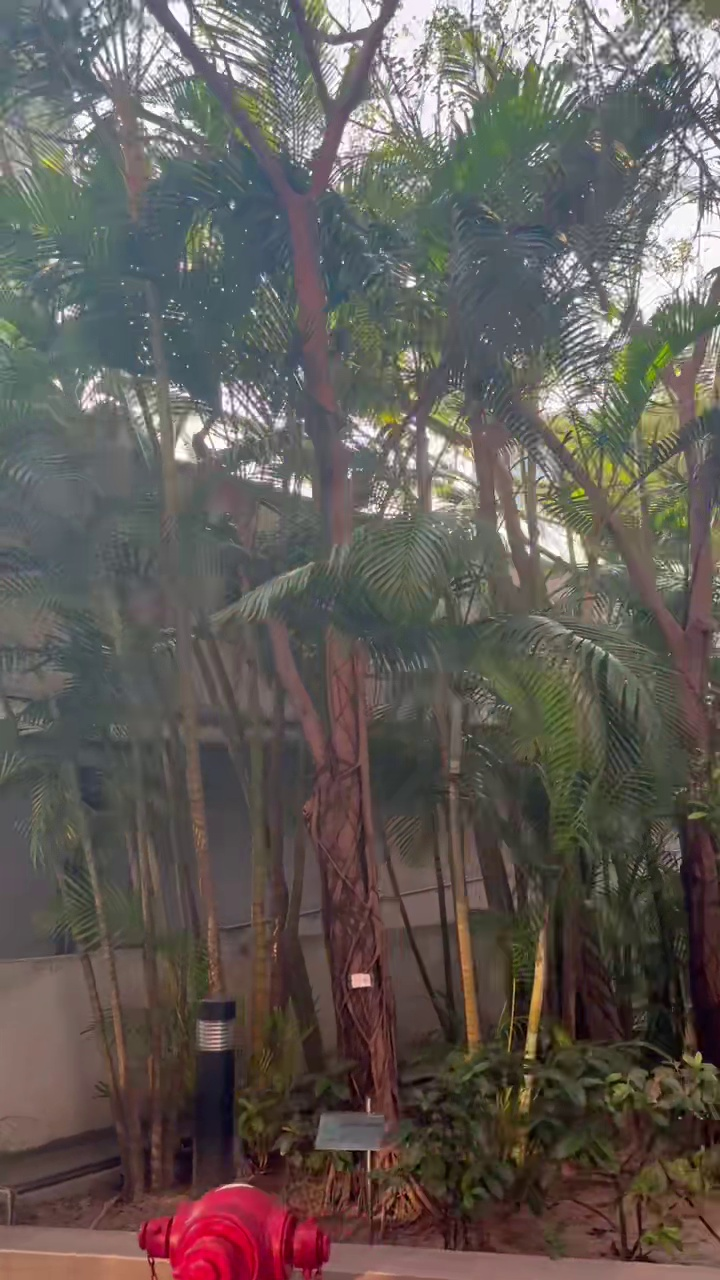Ficus benjamina: (149, 0, 398, 1119)
